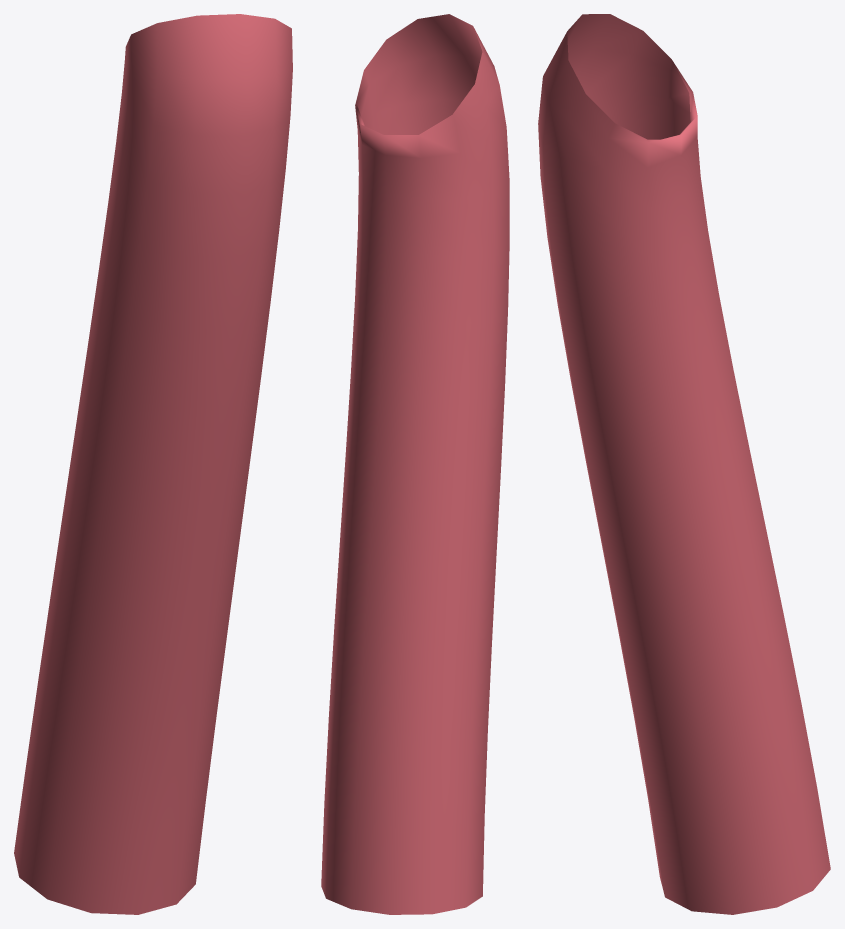
3 views of the same model, side by side, from view 1: azimuth 30°, elevation 25°; view 2: azimuth 150°, elevation 25°; view 3: azimuth 270°, elevation 25° (orthographic). The views are drawn at different scales.
Parts seen in each view (by area): view 1: ZA_28cc4d871a371e84; view 2: ZA_28cc4d871a371e84; view 3: ZA_28cc4d871a371e84.
Part boxes in pixels (x1,y1,x2,y2): ZA_28cc4d871a371e84: (14,14,292,914); ZA_28cc4d871a371e84: (321,14,509,914); ZA_28cc4d871a371e84: (538,14,830,914).
Bounding box in the file's own units: 0.00263 × 0.0122 × 0.0037.
